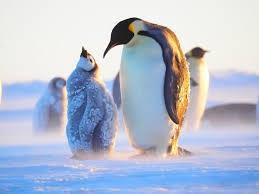emporer: (92, 15, 194, 162)
